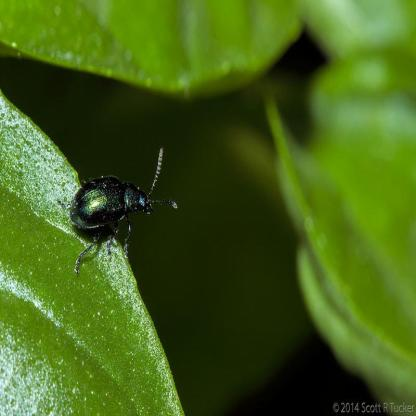beetle: (76, 147, 177, 263)
